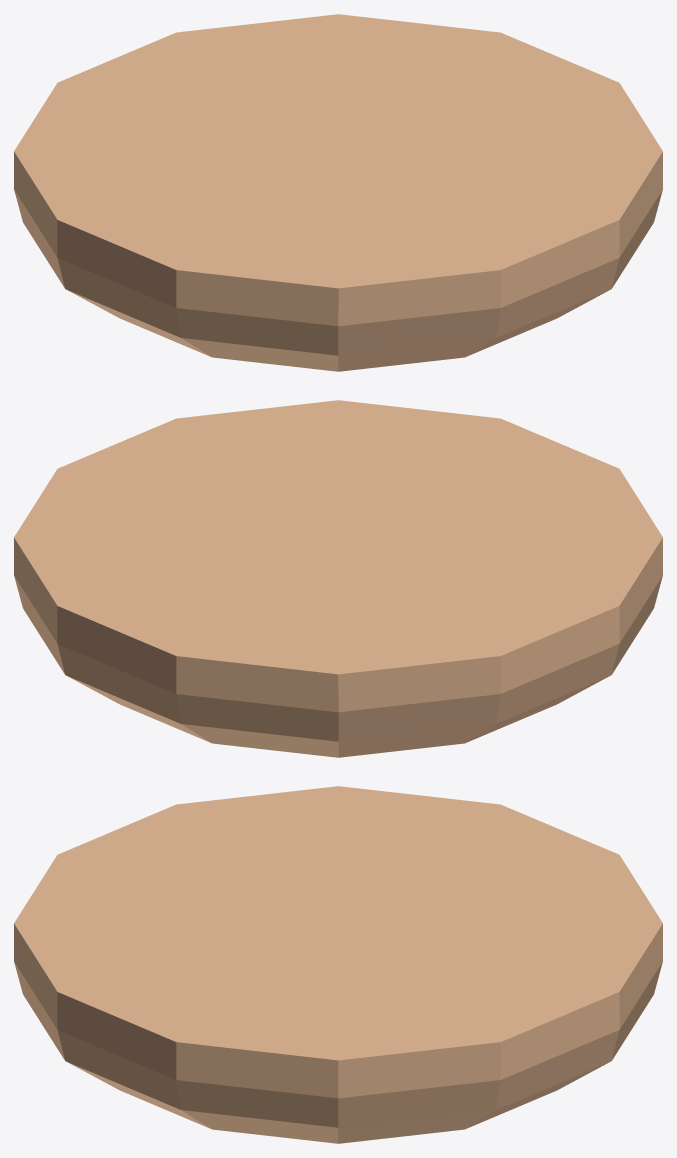
The model's file is bottomBun.fbx.
3 views of the same model, one above another, from view 1: azimuth 30°, elevation 25°; view 2: azimuth 150°, elevation 25°; view 3: azimuth 270°, elevation 25° (orthographic).
Parts seen in each view (by area): view 1: Cylinder; view 2: Cylinder; view 3: Cylinder.
Boxes of the visible parts, x1=… form: Cylinder: x1=14, y1=14, x2=662, y2=371; Cylinder: x1=14, y1=400, x2=662, y2=757; Cylinder: x1=14, y1=786, x2=662, y2=1143.
Size of the model in its own units: 200 by 44.77 by 200.
